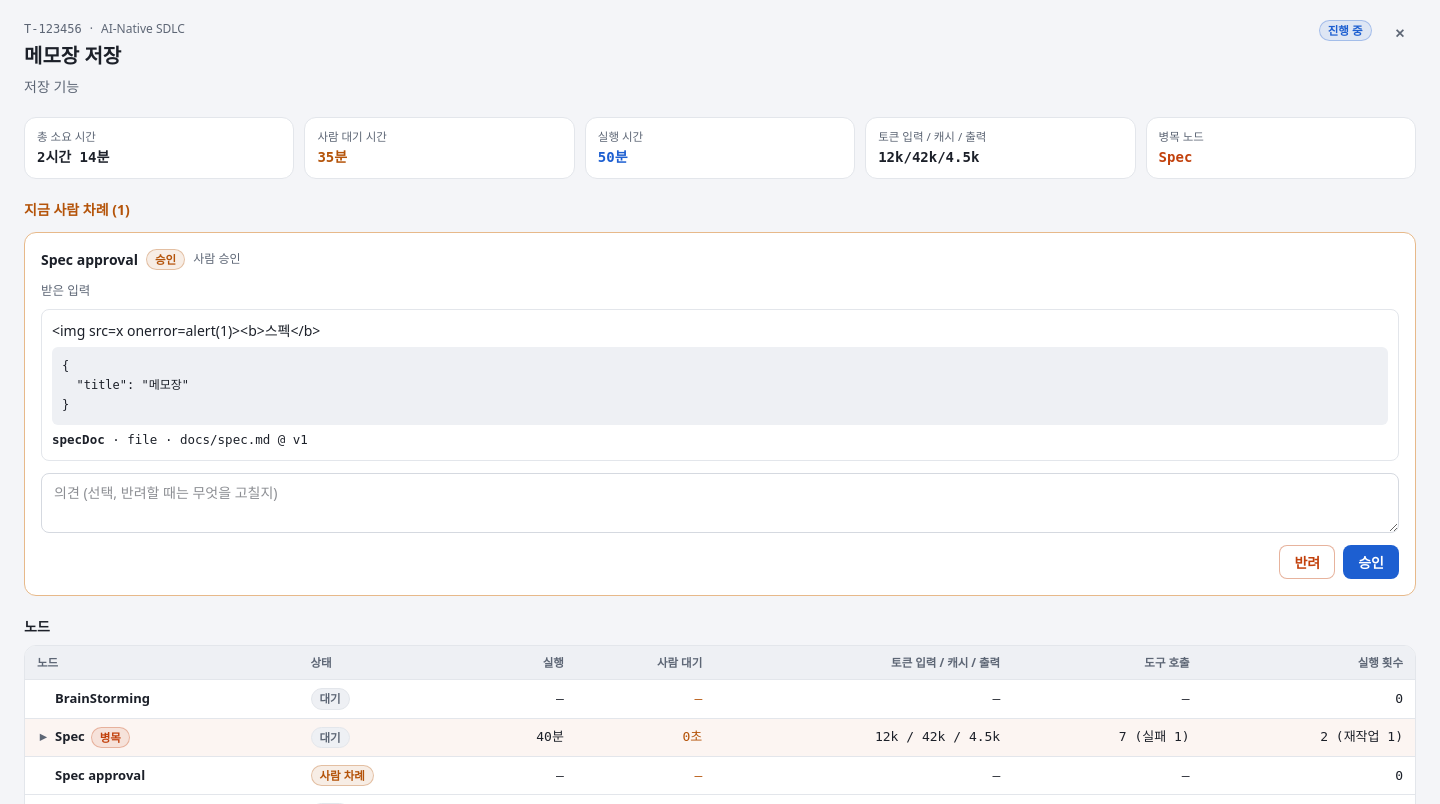
Test: ticket detail › shows why an execution was cut short
The width and height of the screenshot is (1440, 804).
Step 1. Click the button "▸ Spec 병목" → coordinates (83, 737), box left=37, top=726, right=130, bottom=748
(page scrolled)
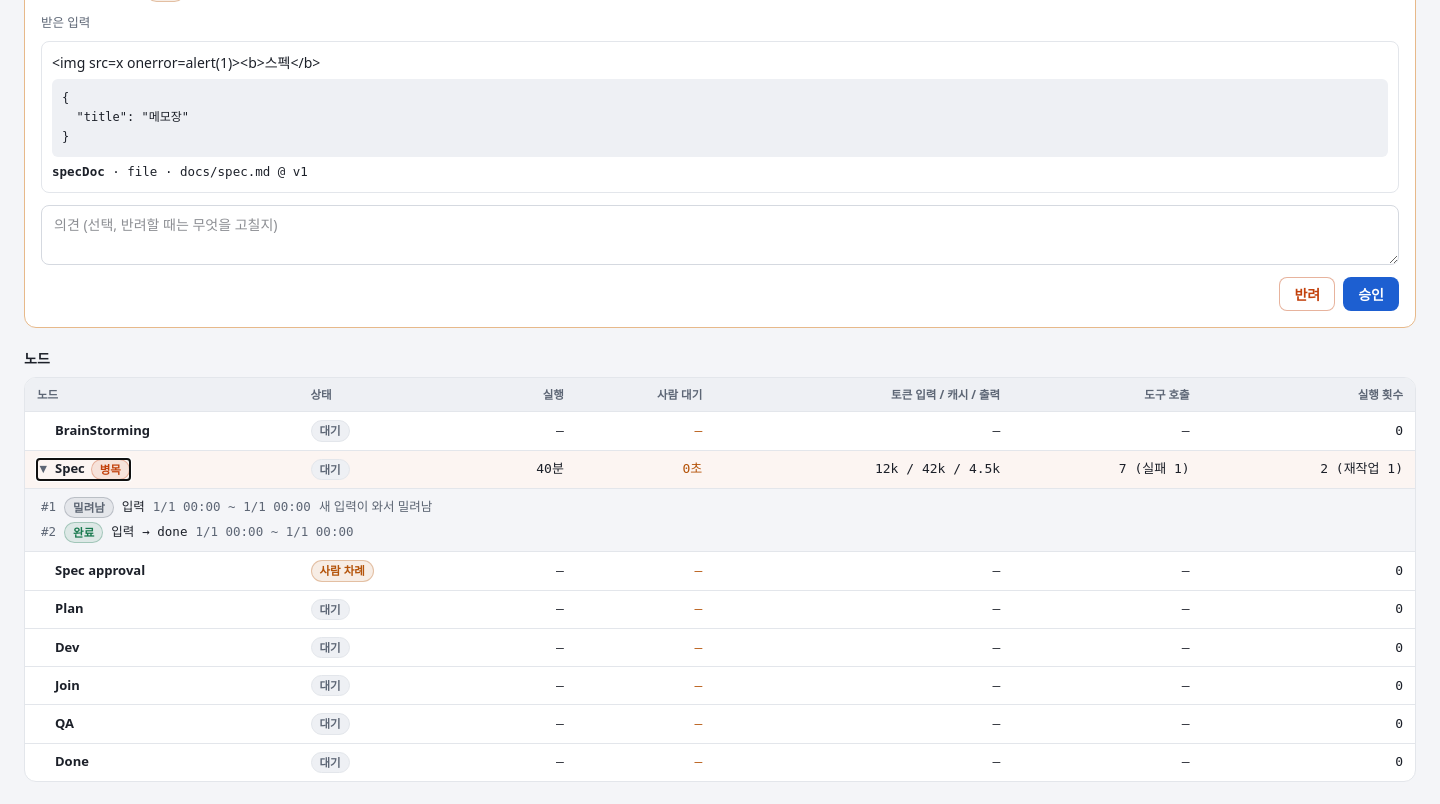
Now the list named "Spec 실행 기록" shows "새 입력이 와서 밀려남", box left=319, top=498, right=432, bottom=515
